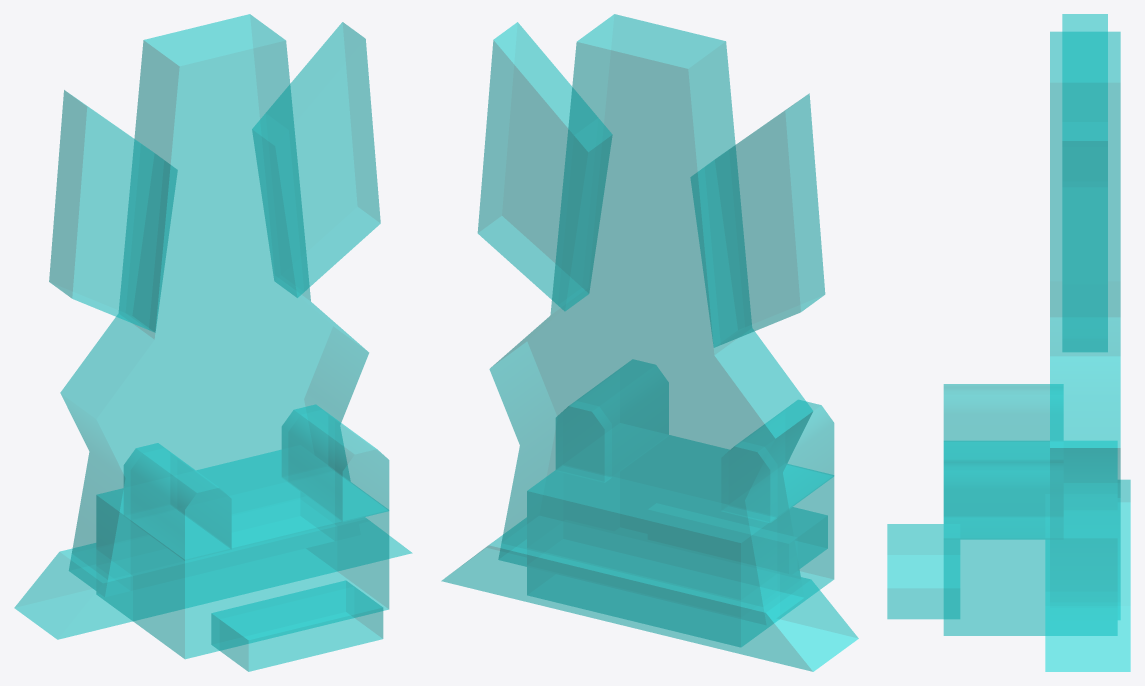
File: SM_Prop_Throne_01_Collision_01.fbx
3 views of the same model, side by side, from view 1: azimuth 30°, elevation 25°; view 2: azimuth 150°, elevation 25°; view 3: azimuth 270°, elevation 25° (orthographic). The views are drawn at different scales.
Visible parts, largest first — view 1: SM_Prop_Throne_01_Collision_01; view 2: SM_Prop_Throne_01_Collision_01; view 3: SM_Prop_Throne_01_Collision_01.
Boxes of the visible parts, x1,y1,x2,y2 form: SM_Prop_Throne_01_Collision_01: (14, 14, 412, 671); SM_Prop_Throne_01_Collision_01: (441, 14, 858, 671); SM_Prop_Throne_01_Collision_01: (887, 14, 1130, 671).
Size of the model in its own units: 214 by 312 by 130.
